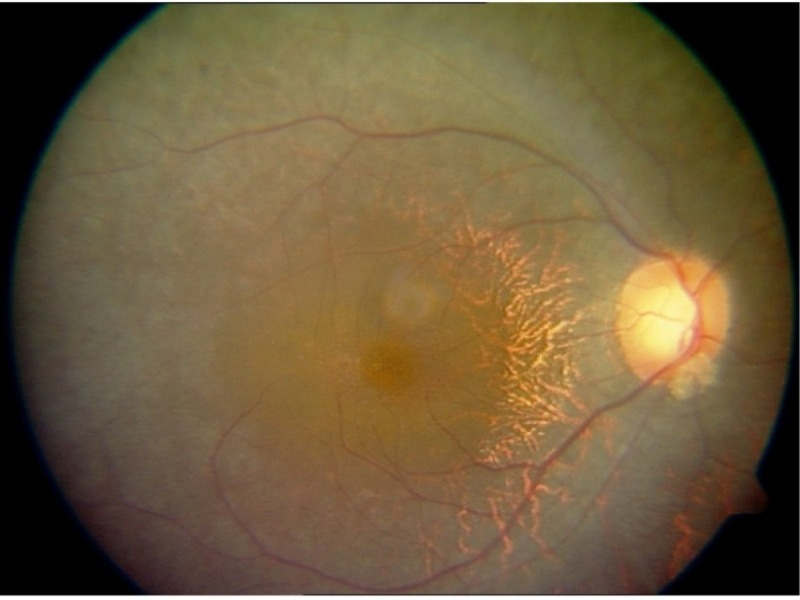Optic Cup: (640, 284, 696, 354)
Optic Disc: (617, 254, 728, 382)
